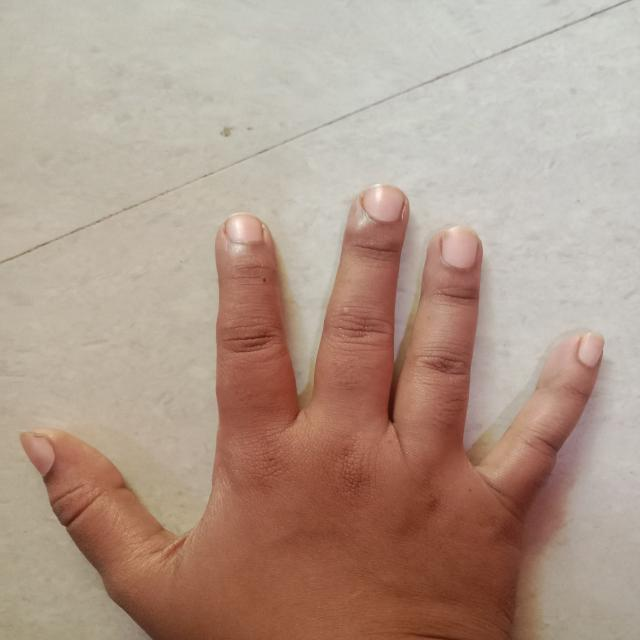nail: (360, 184, 406, 222), (21, 432, 55, 478), (442, 227, 478, 268), (225, 214, 263, 243), (578, 333, 604, 366)
